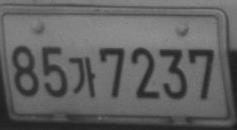2: (130, 46, 159, 98)
3: (160, 48, 188, 100)
5: (41, 46, 68, 97)
7: (98, 46, 125, 98), (188, 48, 214, 99)
8: (11, 45, 39, 97)
가: (69, 56, 96, 97)
